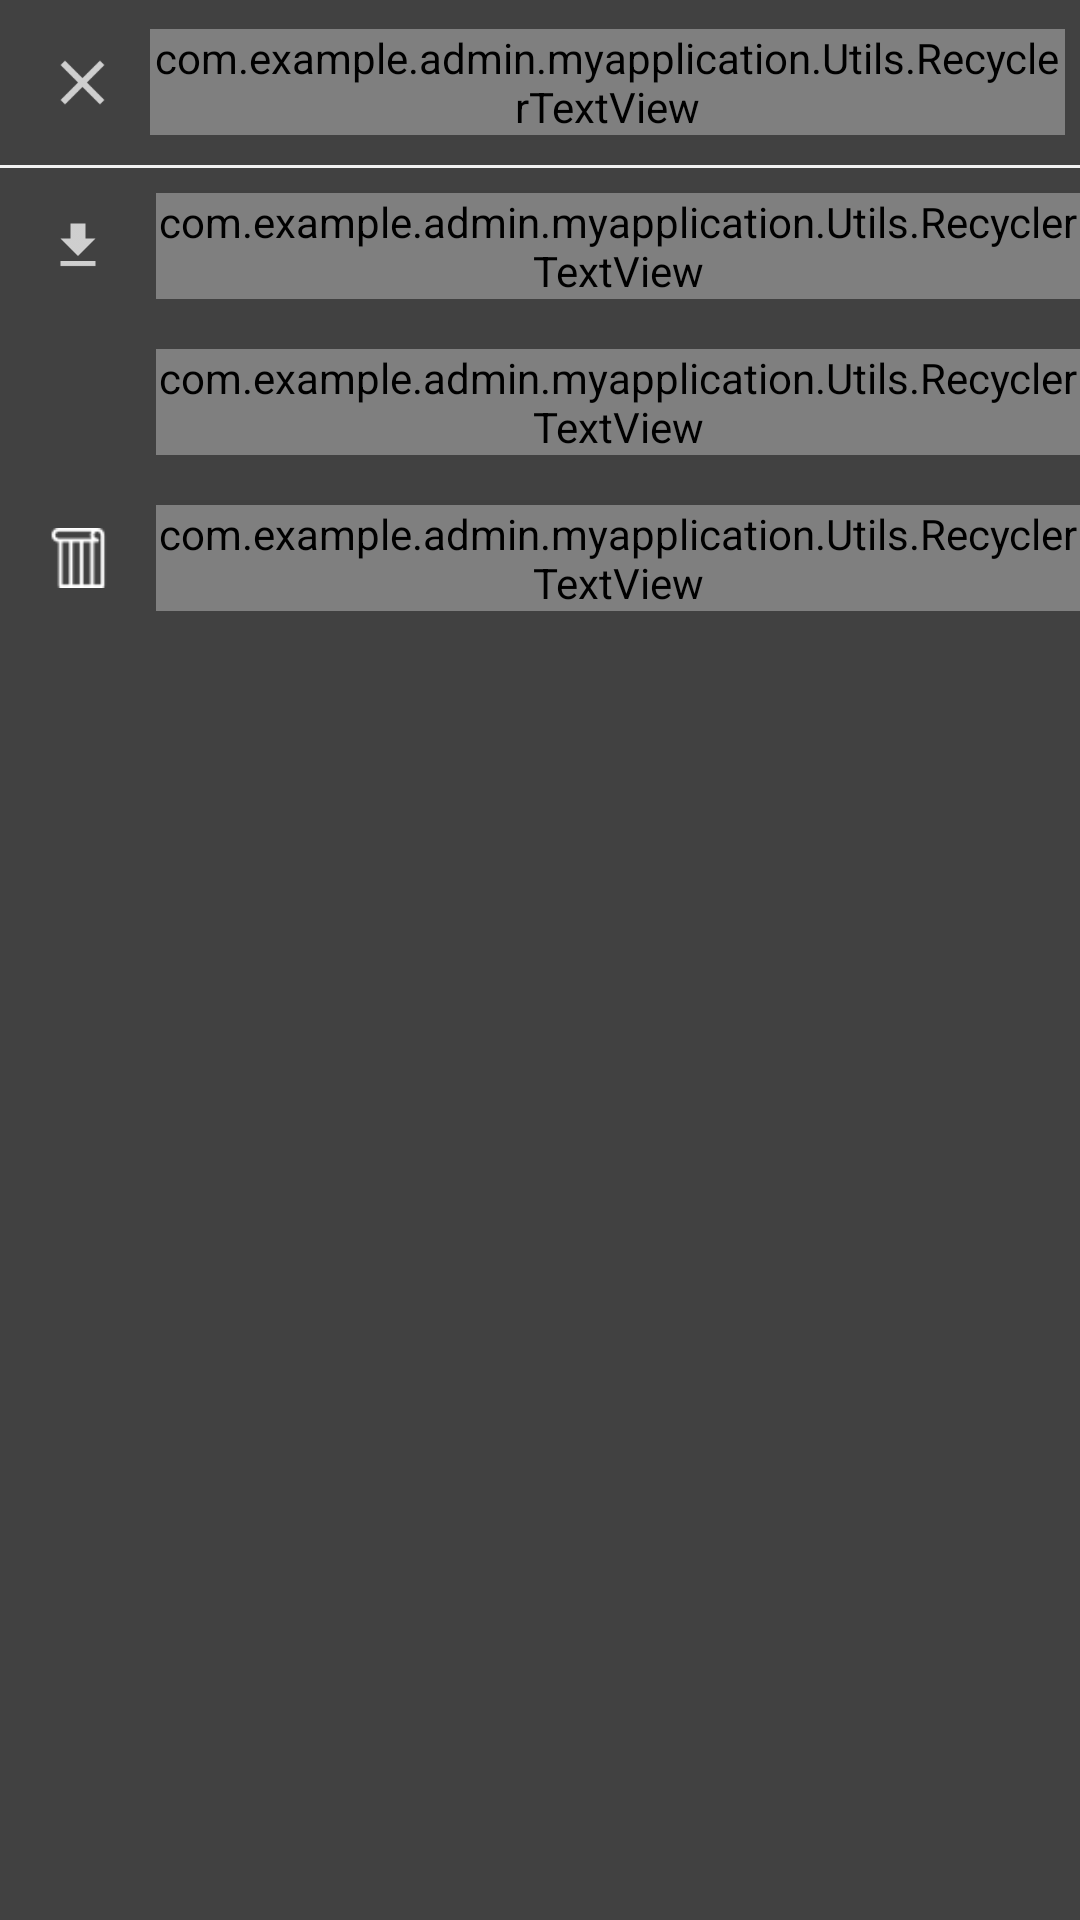

Point at icon controls on the screen. Image size 1080x1920, points as (x,y).
close primarycolor: (82,82)
download primarycolor: (78,244)
